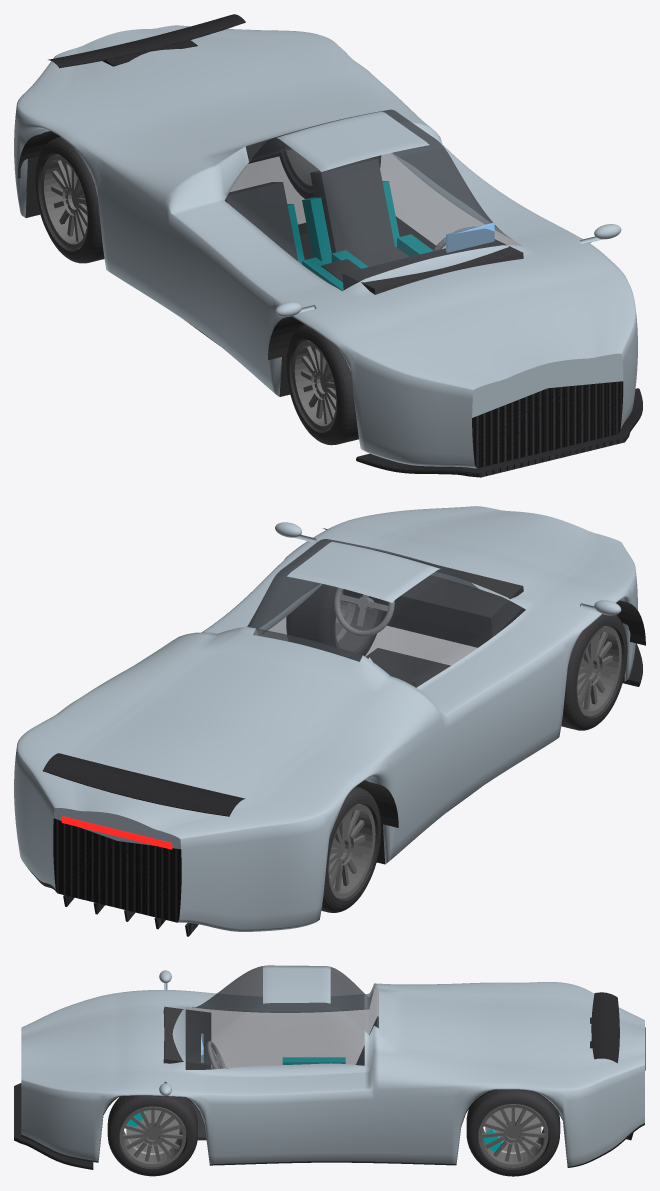
Rendered from rimac-nevera.glb.
The picture shows the model from 3 angles, top to bottom: view 1: azimuth 30°, elevation 25°; view 2: azimuth 150°, elevation 25°; view 3: azimuth 270°, elevation 25°; orthographic projection. The views are drawn at different scales.
Visible parts, largest first — view 1: Body_PrimaryPaint, Glass_Windows, Carbon_Exterior, Interior_Seats, Interior_SeatBolsters, Tire_FR, Rim_RR, Tire_RR, Rim_FR, Interior_Dashboard, WheelWells, Underbody (+2 smaller); view 2: Body_PrimaryPaint, Glass_Windows, Carbon_Exterior, Interior_Dashboard, Rim_RR, Rim_FR, Tire_FR, Tire_FL, Tire_RR, WheelWells, Underbody, Interior_Tub (+3 smaller); view 3: Body_PrimaryPaint, Glass_Windows, Tire_RL, Tire_FL, Carbon_Exterior, Rim_RL, Rim_FL, Interior_Dashboard, Underbody, BrakeDisc_RL, BrakeDisc_FL, Interior_SeatBolsters (+1 smaller).
Boxes of the visible parts, left/top/right/bottom form: Body_PrimaryPaint: left=14, top=25, right=637, bottom=468; Glass_Windows: left=225, top=109, right=521, bottom=290; Carbon_Exterior: left=48, top=14, right=642, bottom=477; Interior_Seats: left=225, top=158, right=409, bottom=266; Interior_SeatBolsters: left=287, top=181, right=432, bottom=290; Tire_FR: left=286, top=324, right=358, bottom=445; Rim_RR: left=41, top=154, right=88, bottom=249; Tire_RR: left=35, top=137, right=104, bottom=263; Rim_FR: left=292, top=340, right=336, bottom=430; Interior_Dashboard: left=342, top=239, right=523, bottom=294; WheelWells: left=17, top=131, right=590, bottom=360; Underbody: left=25, top=131, right=628, bottom=428; Body_PrimaryPaint: left=14, top=506, right=637, bottom=931; Glass_Windows: left=247, top=539, right=525, bottom=687; Carbon_Exterior: left=42, top=624, right=642, bottom=936; Interior_Dashboard: left=343, top=550, right=523, bottom=637; Rim_RR: left=328, top=804, right=375, bottom=898; Rim_FR: left=576, top=626, right=621, bottom=716; Tire_FR: left=561, top=614, right=627, bottom=730; Tire_FL: left=286, top=584, right=383, bottom=655; Tire_RR: left=321, top=786, right=381, bottom=912; WheelWells: left=323, top=528, right=645, bottom=827; Underbody: left=26, top=608, right=624, bottom=892; Interior_Tub: left=366, top=648, right=450, bottom=687; Body_PrimaryPaint: left=21, top=965, right=644, bottom=1166; Glass_Windows: left=185, top=966, right=378, bottom=1069; Tire_RL: left=466, top=1090, right=560, bottom=1176; Tire_FL: left=107, top=1096, right=197, bottom=1176; Carbon_Exterior: left=14, top=992, right=633, bottom=1169; Rim_RL: left=478, top=1104, right=548, bottom=1167; Rim_FL: left=119, top=1106, right=186, bottom=1167; Interior_Dashboard: left=163, top=1006, right=211, bottom=1069; Underbody: left=21, top=1089, right=644, bottom=1167; BrakeDisc_RL: left=485, top=1107, right=541, bottom=1153; BrakeDisc_FL: left=126, top=1110, right=179, bottom=1154; Interior_SeatBolsters: left=282, top=1057, right=345, bottom=1064.
Size of the model in its own units: 2.2 by 1.2 by 4.81.
Materials: 15 (2 with a texture image).
